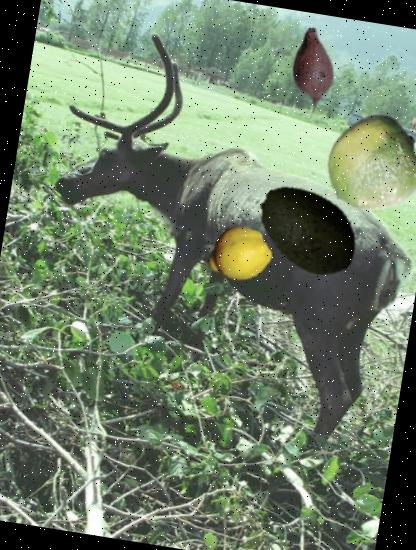Avocado: (246, 166, 372, 292)
Limes: (318, 110, 416, 222)
Quince: (201, 217, 275, 291)
Salak: (268, 22, 360, 114)
